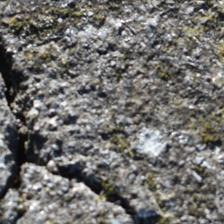Crack: (2, 21, 136, 197)
